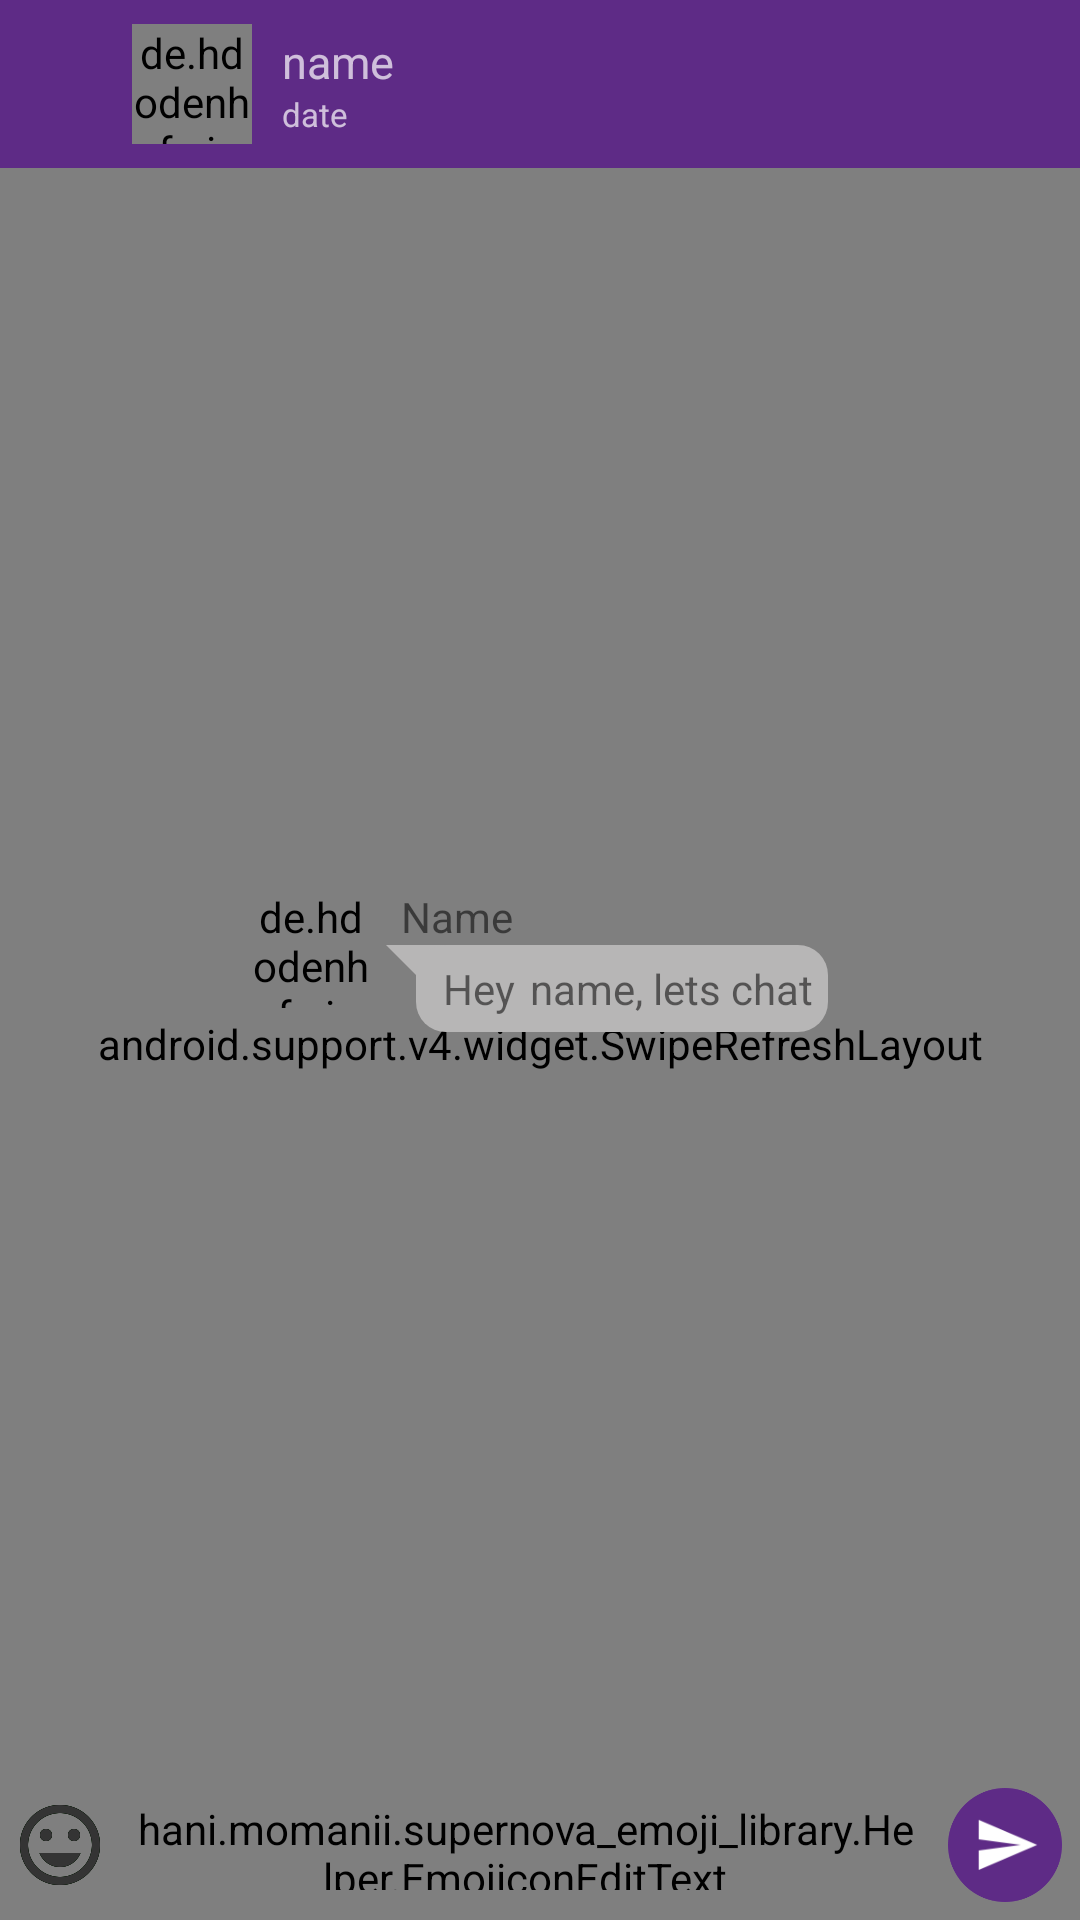

Screen size 1080x1920. Icon name, then its center in pixels as [x,y]:
sender: [1005,1845]
tag faces: [60,1845]
